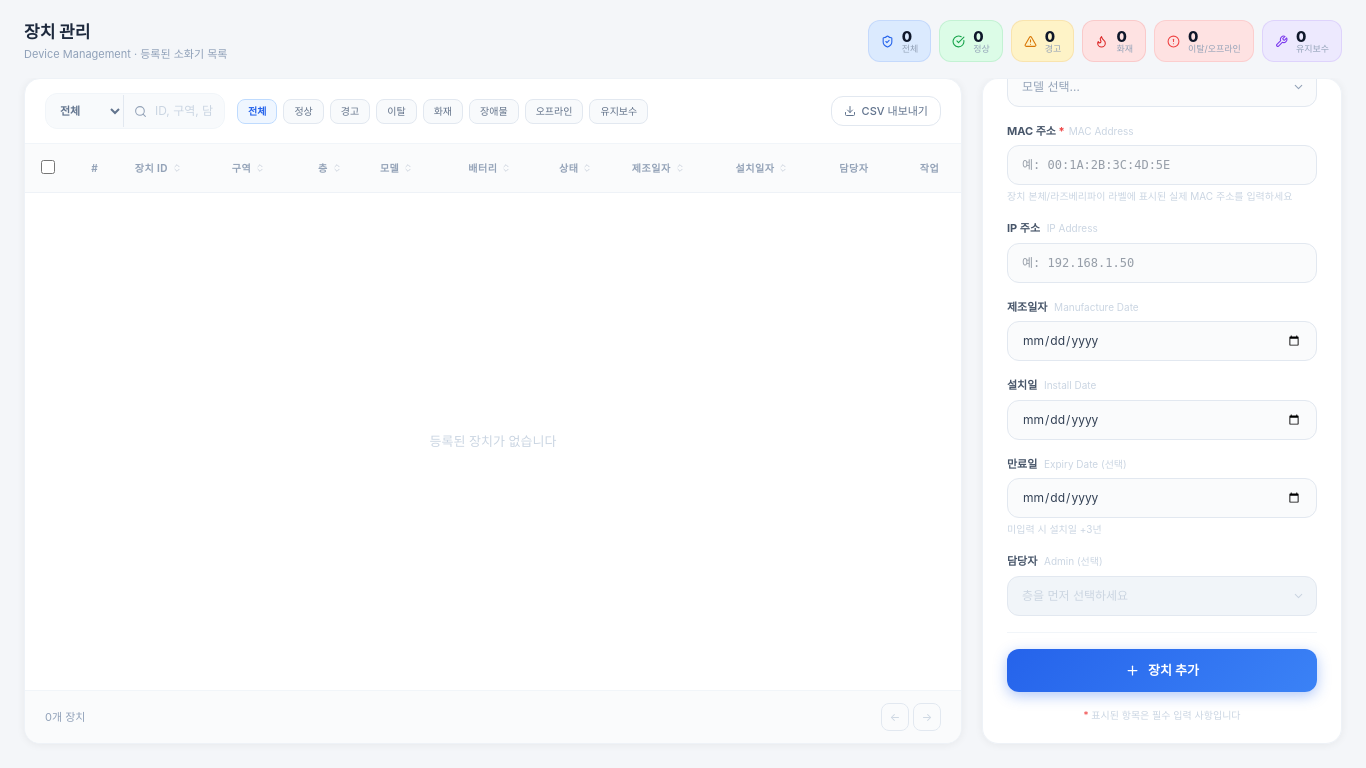
DeviceManagement › shows validation errors when submitting without required fields
(page scrolled)
Expected: the text "등록된 장치가 없습니다" is shown, [25, 192, 961, 690]
Click the button "장치 추가" at (1162, 670), box [1007, 648, 1317, 692]
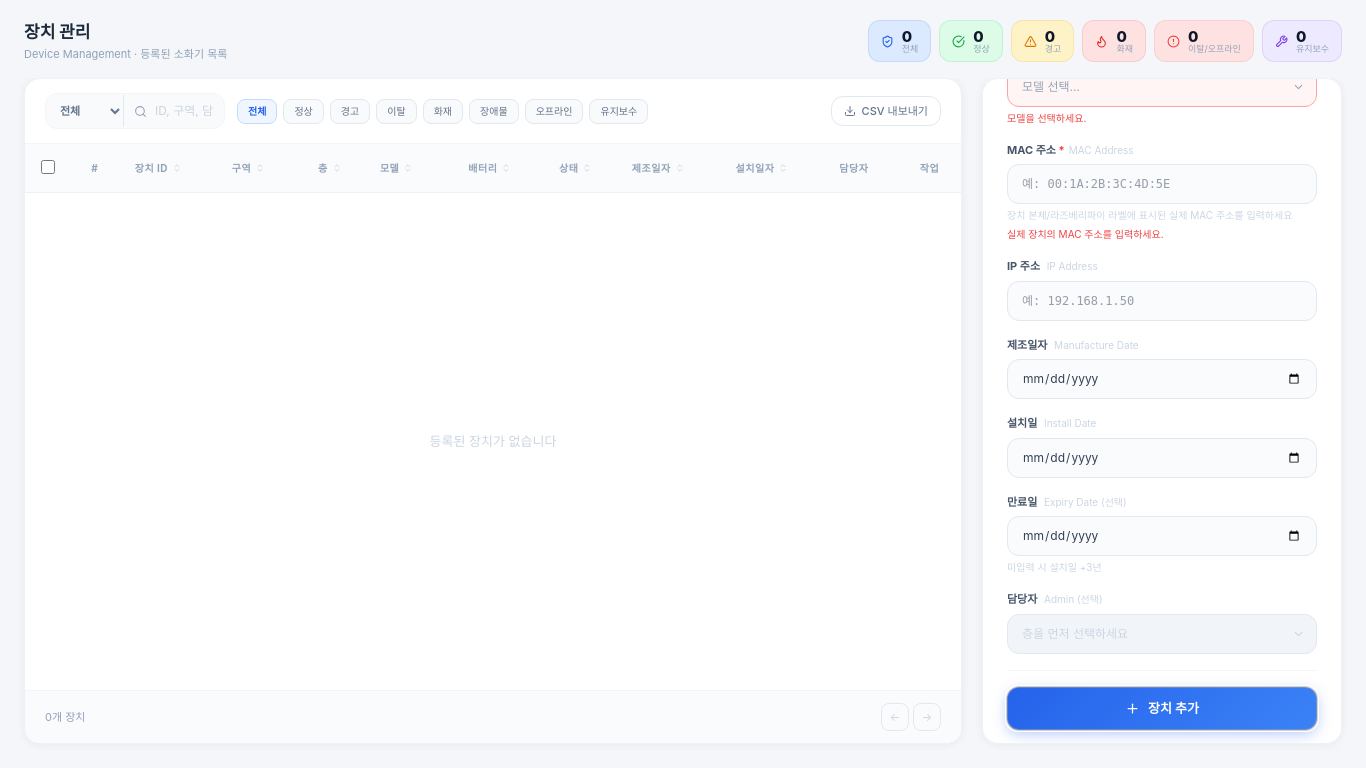
Now the text "모델을 선택하세요." is shown, box [1007, 112, 1086, 124]
